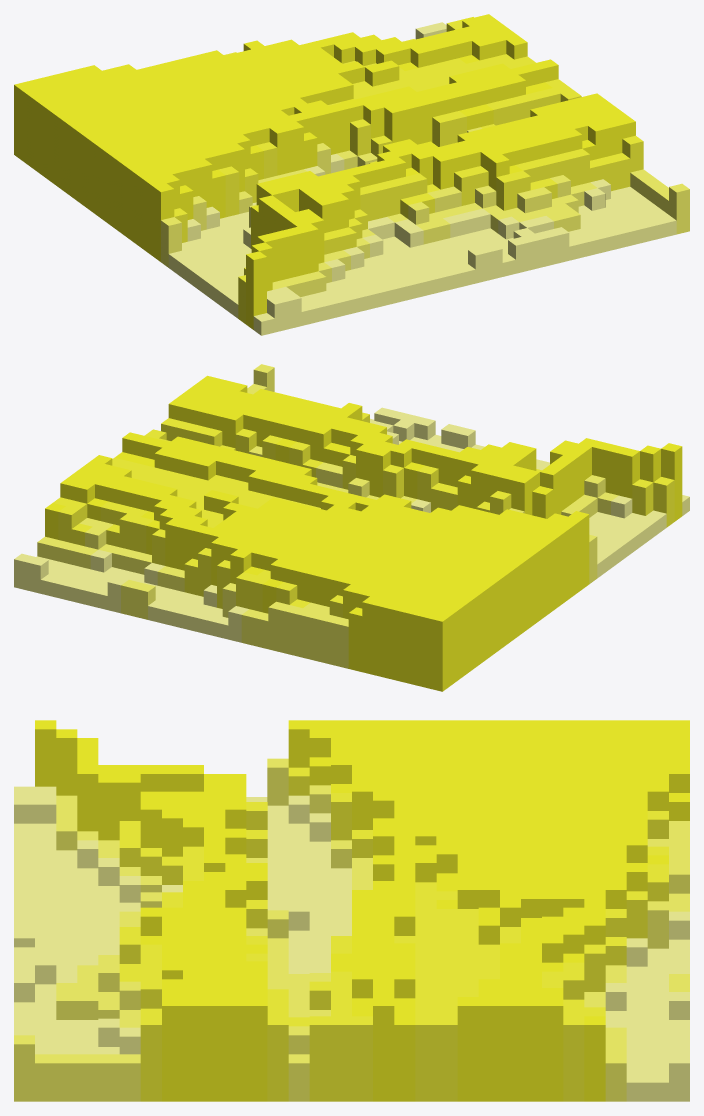
Rendered from Destert Map-24.obj.
The picture shows the model from 3 angles, top to bottom: view 1: azimuth 30°, elevation 25°; view 2: azimuth 150°, elevation 25°; view 3: azimuth 270°, elevation 25°; orthographic projection. The views are drawn at different scales.
Size of the model in its own units: 3.2 by 0.5 by 3.2.
1 material, 1 textured.
